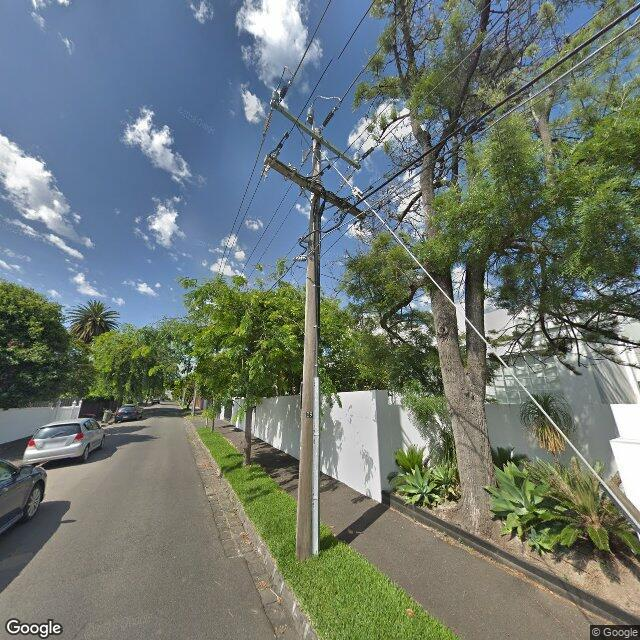HV-transmission: (260, 80, 375, 186)
crossarm: (264, 154, 366, 220), (270, 100, 361, 170)
timber-pole: (296, 127, 321, 560)
